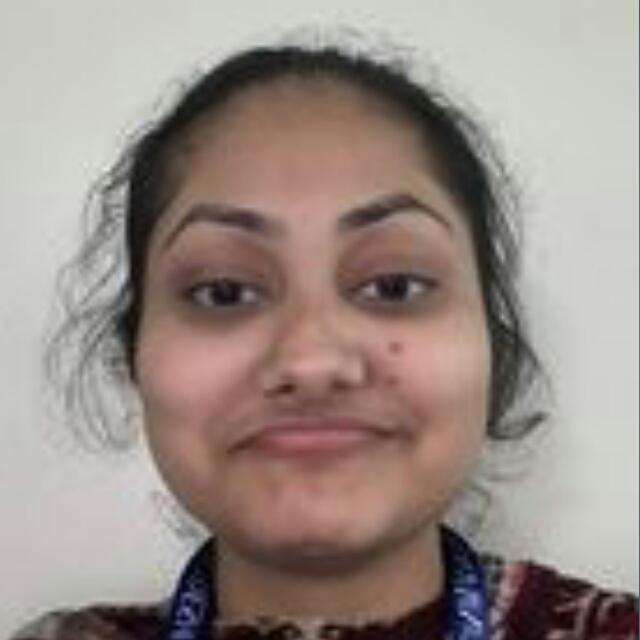Sad: (83, 143, 568, 577)
